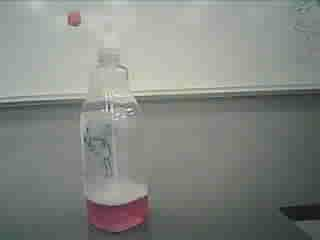hazard: (58, 3, 174, 236)
